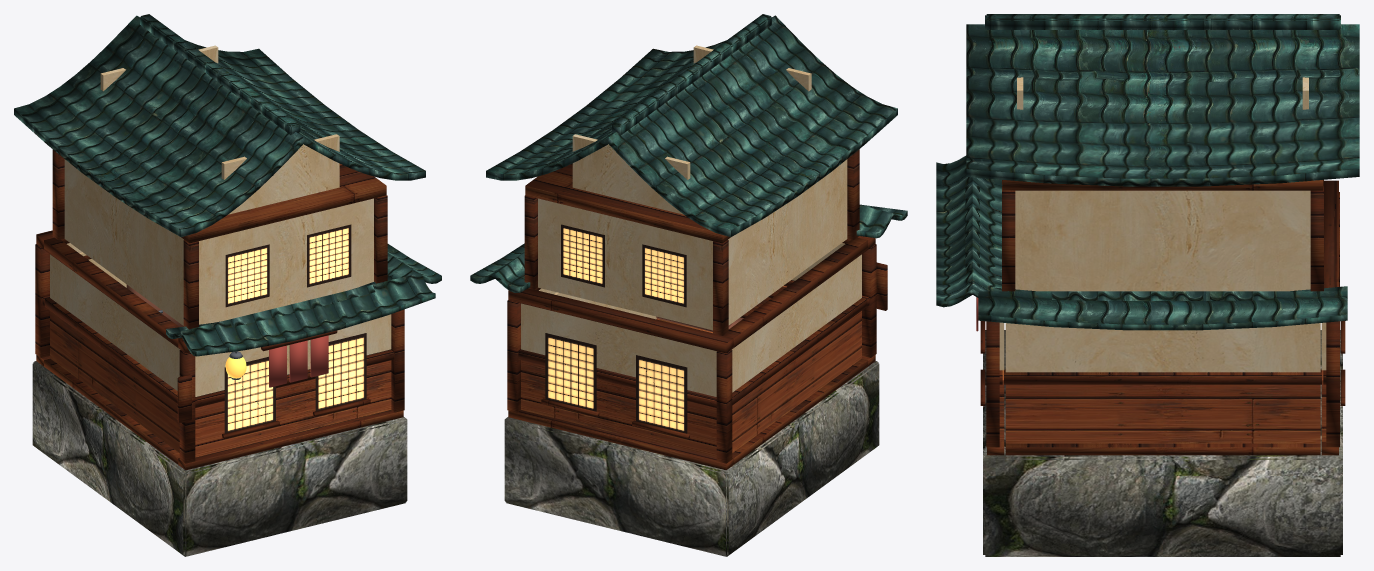
File: machiya_hero_v3.glb
The picture shows the model from 3 angles, left to right: view 1: azimuth 30°, elevation 25°; view 2: azimuth 150°, elevation 25°; view 3: azimuth 270°, elevation 25°; orthographic projection. The views are drawn at different scales.
Parts seen in each view (by area): view 1: peek_roof_kawara, exterior_stone, peek_upper_plaster, exterior_charred, exterior_cedar, exterior_hisashi, exterior_plaster, peek_upper_charred, exterior_shoji, peek_upper_shoji, peek_roof_plaster, exterior_noren; view 2: peek_roof_kawara, exterior_stone, peek_upper_plaster, exterior_charred, exterior_plaster, exterior_cedar, peek_upper_charred, exterior_shoji, peek_upper_shoji, peek_roof_plaster, exterior_hisashi; view 3: peek_roof_kawara, exterior_stone, peek_upper_plaster, exterior_hisashi, exterior_cedar, exterior_plaster, exterior_charred, peek_upper_charred.
Boxes of the visible parts, x1,y1,x2,y2 form: peek_roof_kawara: [14, 14, 425, 237]; exterior_stone: [32, 361, 407, 556]; peek_upper_plaster: [64, 159, 373, 325]; exterior_charred: [35, 230, 404, 470]; exterior_cedar: [50, 311, 391, 457]; exterior_hisashi: [166, 244, 441, 356]; exterior_plaster: [50, 243, 391, 396]; peek_upper_charred: [52, 149, 387, 329]; exterior_shoji: [224, 333, 366, 433]; peek_upper_shoji: [225, 224, 351, 307]; peek_roof_plaster: [100, 45, 339, 214]; exterior_noren: [269, 335, 328, 387]; peek_roof_kawara: [486, 14, 897, 236]; exterior_stone: [504, 361, 879, 556]; peek_upper_plaster: [538, 159, 847, 330]; exterior_charred: [507, 236, 887, 470]; exterior_plaster: [521, 243, 861, 396]; exterior_cedar: [521, 285, 861, 457]; peek_upper_charred: [524, 149, 859, 335]; exterior_shoji: [545, 333, 687, 433]; peek_upper_shoji: [561, 224, 686, 307]; peek_roof_plaster: [572, 45, 811, 214]; exterior_hisashi: [470, 204, 907, 292]; peek_roof_kawara: [966, 14, 1359, 186]; exterior_stone: [983, 330, 1342, 556]; peek_upper_plaster: [1015, 190, 1310, 291]; exterior_hisashi: [936, 155, 1347, 330]; exterior_cedar: [999, 370, 1326, 443]; exterior_plaster: [999, 322, 1326, 372]; exterior_charred: [980, 180, 1345, 455]; peek_upper_charred: [1002, 180, 1323, 291].
Size of the model in its own units: 4.57 by 6.65 by 5.35.
Materials: 16 (10 with a texture image).
